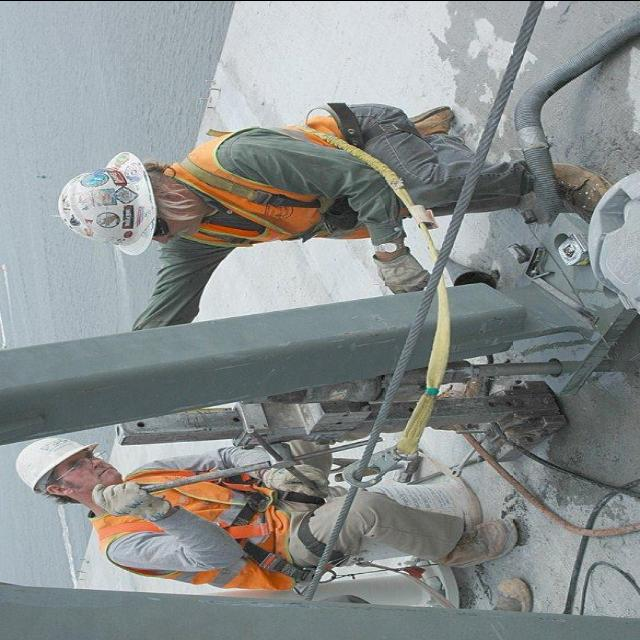helmet: (54, 146, 160, 262), (7, 432, 107, 500)
jacket: (169, 106, 387, 255), (96, 464, 316, 591)
